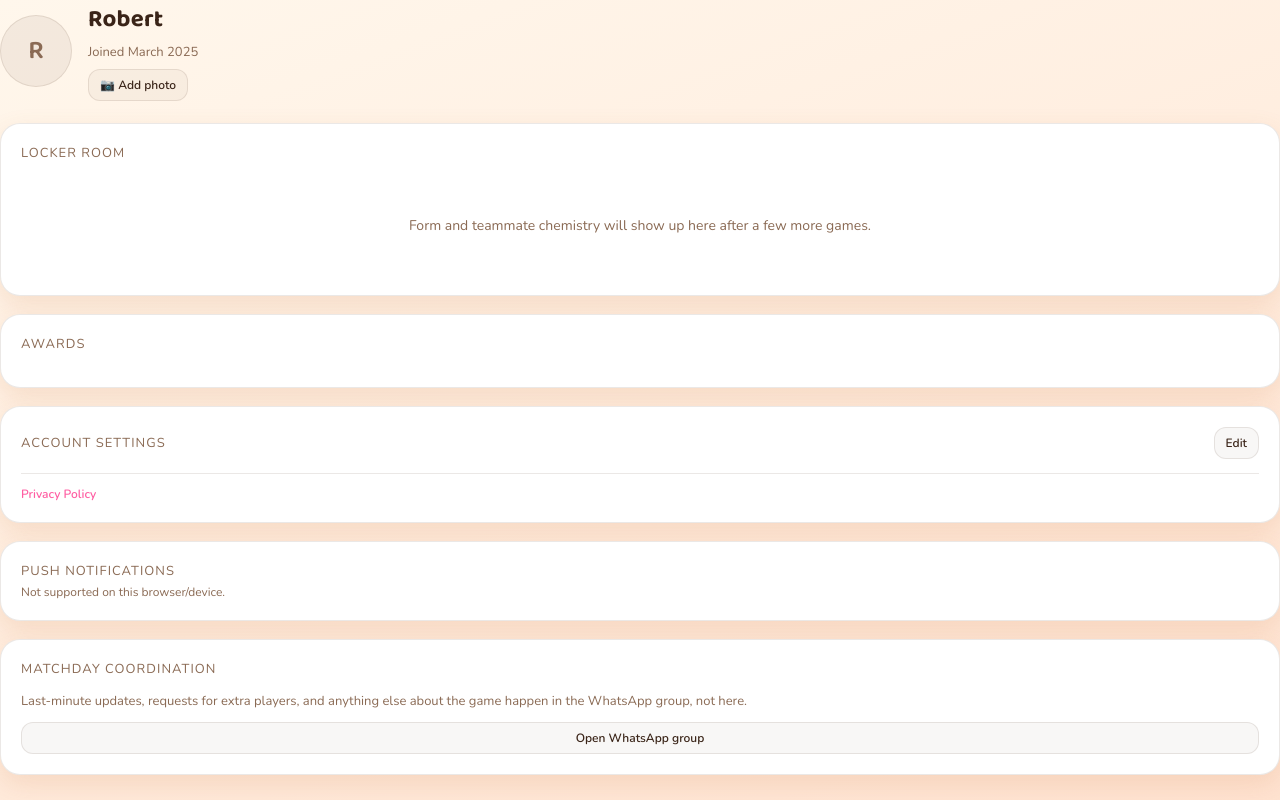
Test: PlayerProfile - account settings › sends only the fields that changed
Click the button "Edit" at (1236, 443), box [1214,427,1259,459]
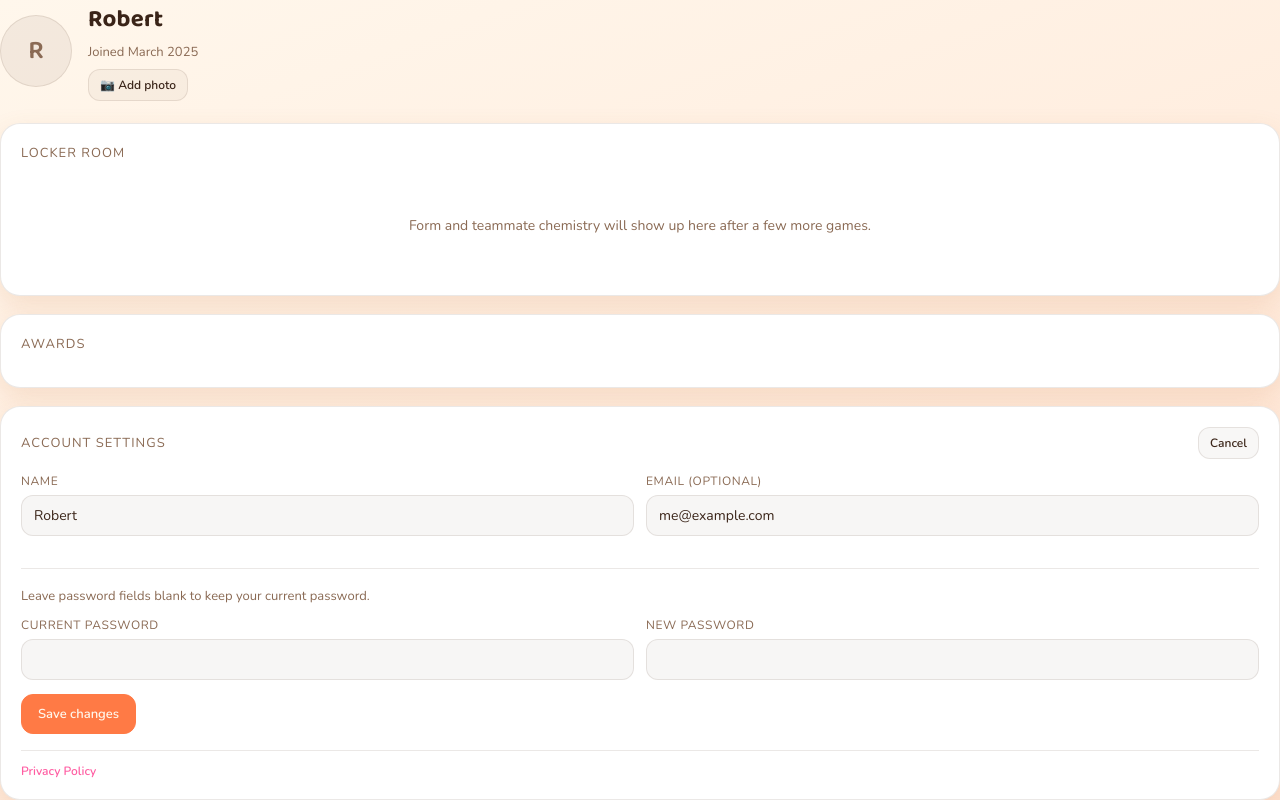
Replace the text in the field labelled "Name" with "  Rob " at (328, 516), box [21,495,634,536]
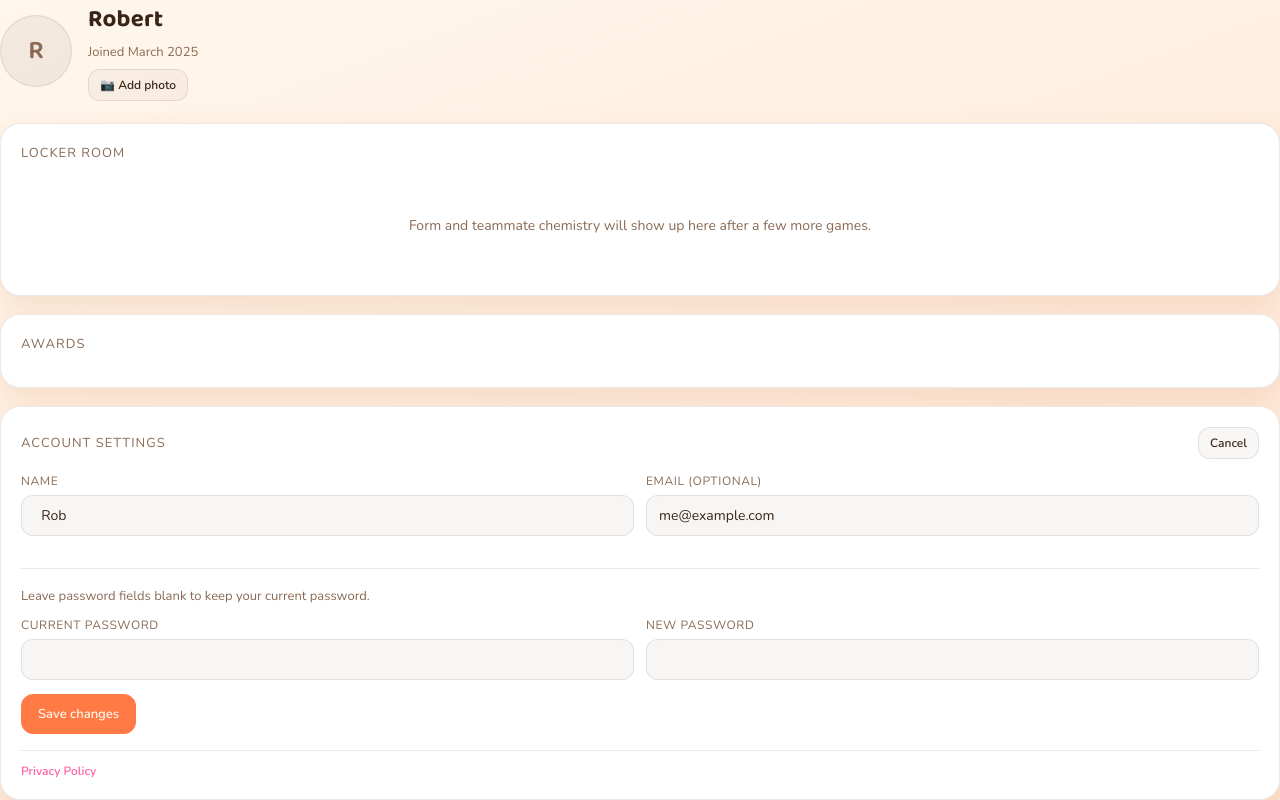
Click the button "Save changes" at (79, 714), box [21,694,136,734]
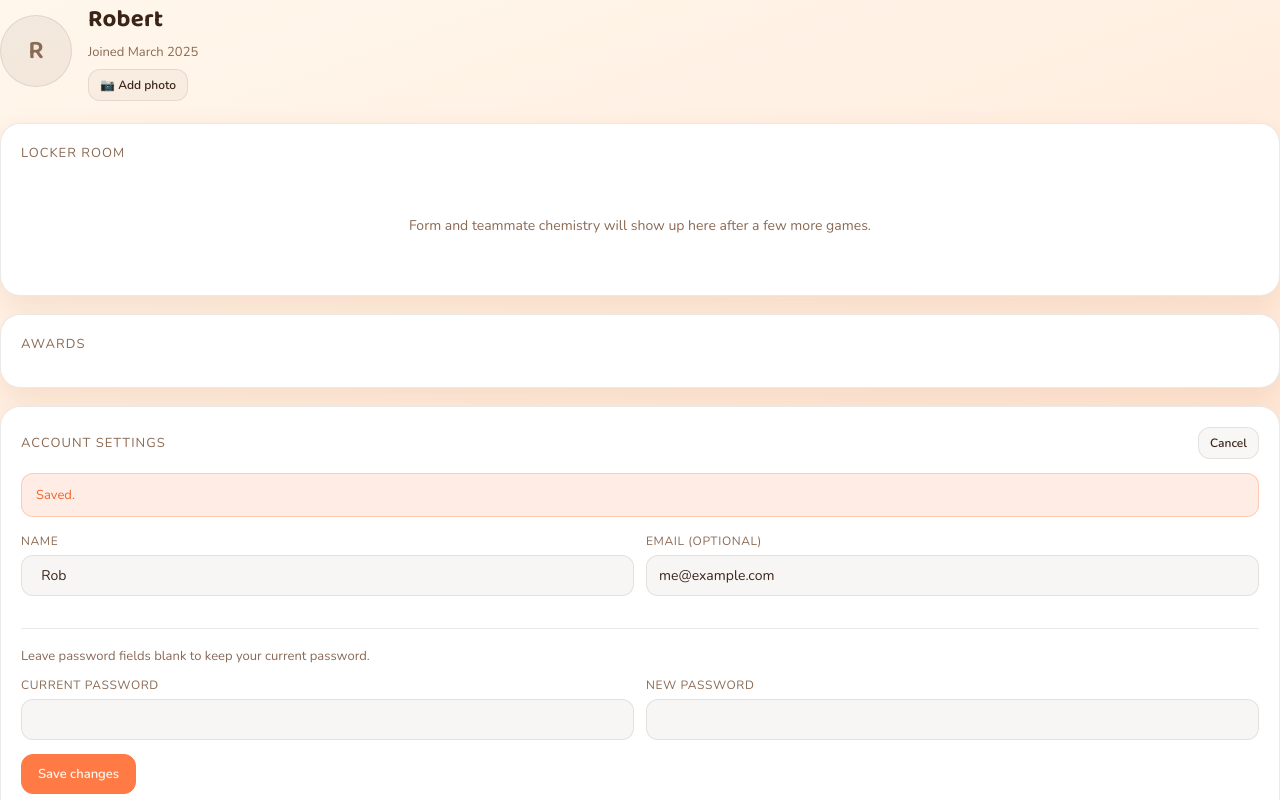
Expected: the text "Saved." is shown, [21,473,1259,517]
